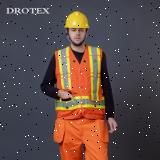Helmet: (65, 10, 90, 30)
Vest: (54, 44, 106, 122)
